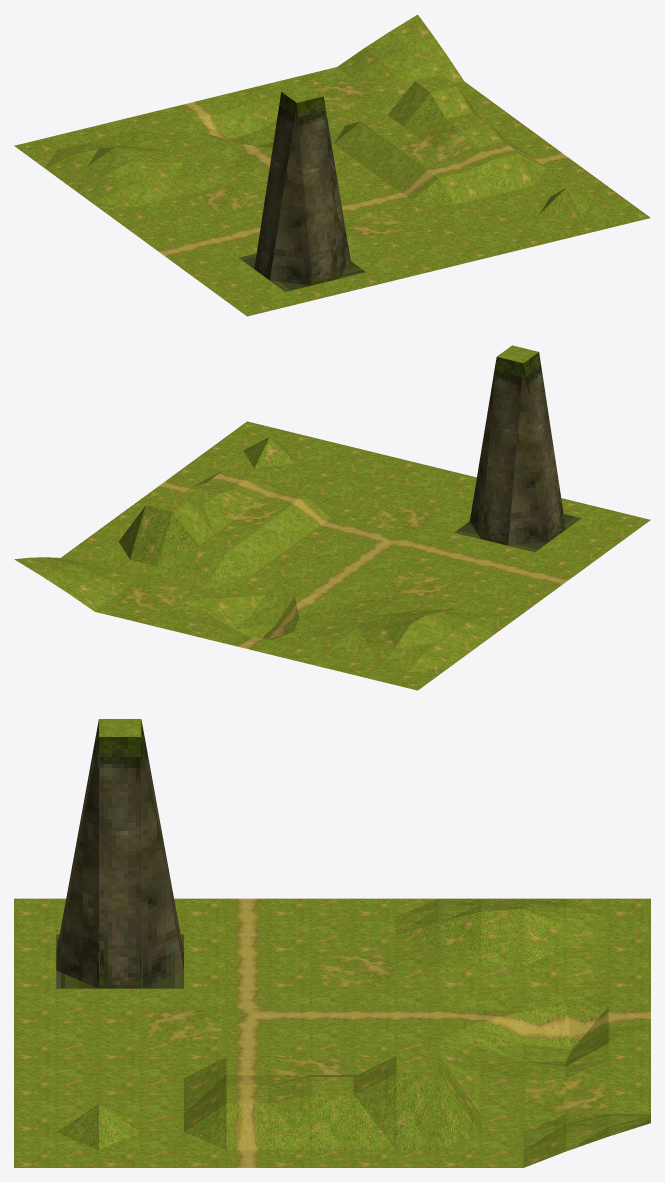
The model's file is map2.obj.
3 renders of one model, top to bottom at view 1: azimuth 30°, elevation 25°; view 2: azimuth 150°, elevation 25°; view 3: azimuth 270°, elevation 25°, orthographic. The views are drawn at different scales.
Parts seen in each view (by area): view 1: Grid.001; view 2: Grid.001; view 3: Grid.001.
Part boxes in pixels (x1=…): Grid.001: x1=14, y1=14, x2=650, y2=316; Grid.001: x1=14, y1=345, x2=650, y2=690; Grid.001: x1=14, y1=719, x2=650, y2=1167.
Size of the model in its own units: 100 by 44.84 by 100.
Materials: 4 (4 with a texture image).
